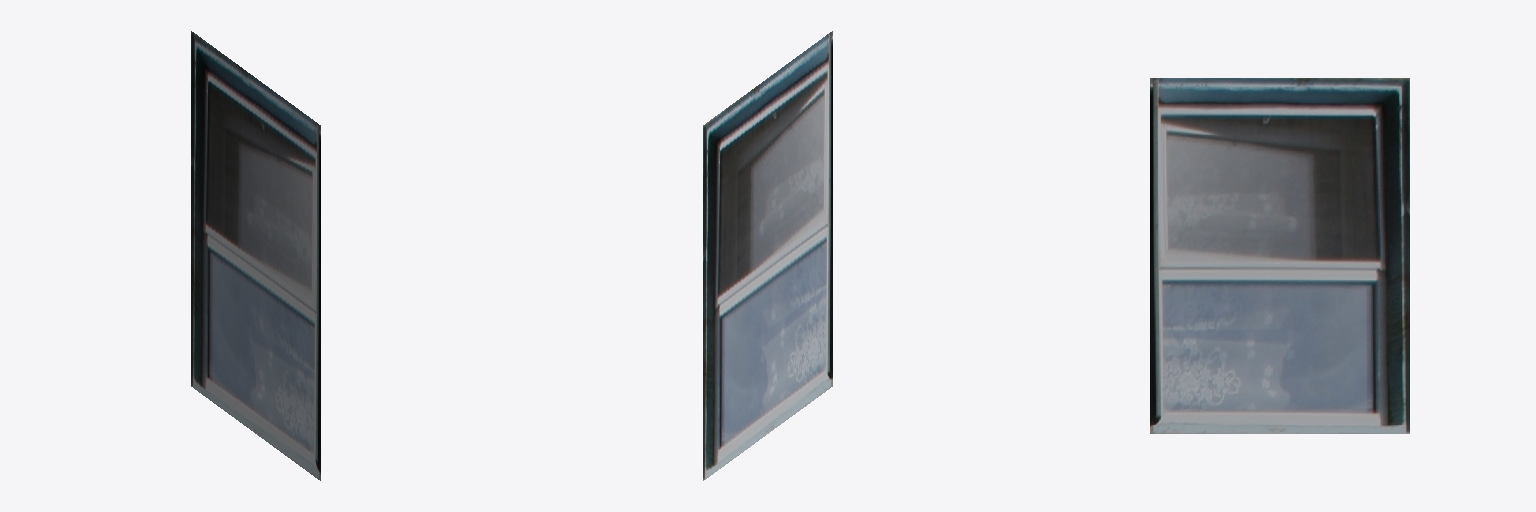
The picture shows the model from 3 angles: view 1: azimuth 30°, elevation 25°; view 2: azimuth 150°, elevation 25°; view 3: azimuth 270°, elevation 25°; orthographic projection.
Parts seen in each view (by area): view 1: Plane001; view 2: Plane001; view 3: Plane001.
Boxes of the visible parts, <box> form: Plane001: <box>191,31,320,480</box>; Plane001: <box>703,31,832,480</box>; Plane001: <box>1150,78,1409,433</box>.
Size of the model in its own units: 0 by 302 by 200.
Materials: 1 (1 with a texture image).